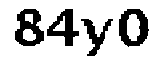0: (118, 6, 151, 49)
4: (44, 7, 82, 47)
8: (14, 6, 44, 49)
y: (81, 15, 113, 60)
